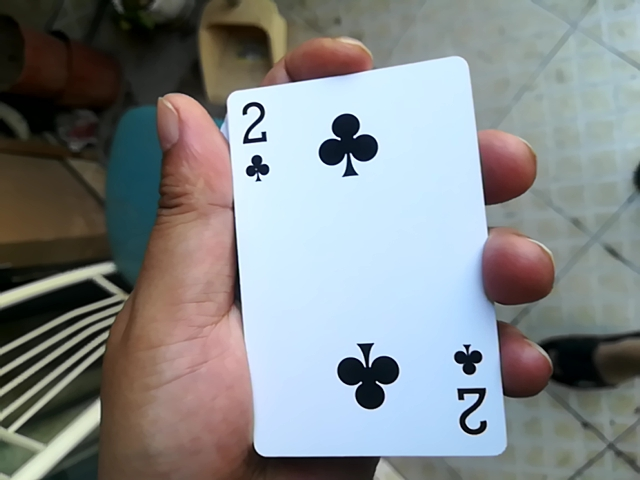mh 2: (196, 56, 490, 457)
